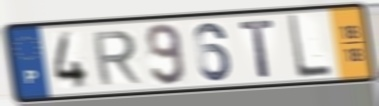4: (53, 30, 90, 90)
6: (193, 21, 234, 83)
9: (144, 22, 187, 87)
L: (285, 13, 334, 81)
R: (90, 28, 144, 88)
T: (238, 17, 278, 79)
